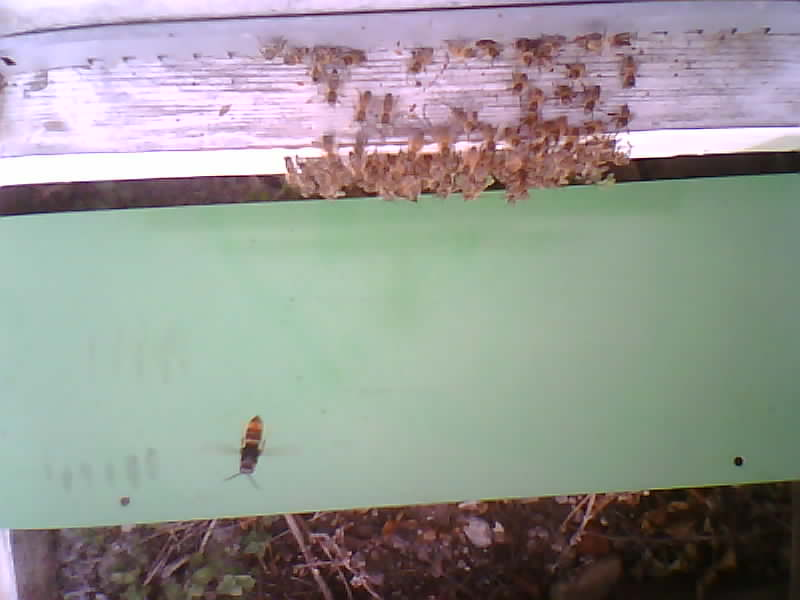bee: (282, 140, 634, 198), (462, 82, 635, 143), (466, 31, 639, 73), (268, 43, 362, 106), (355, 95, 402, 128)
hornet: (226, 411, 275, 487)
